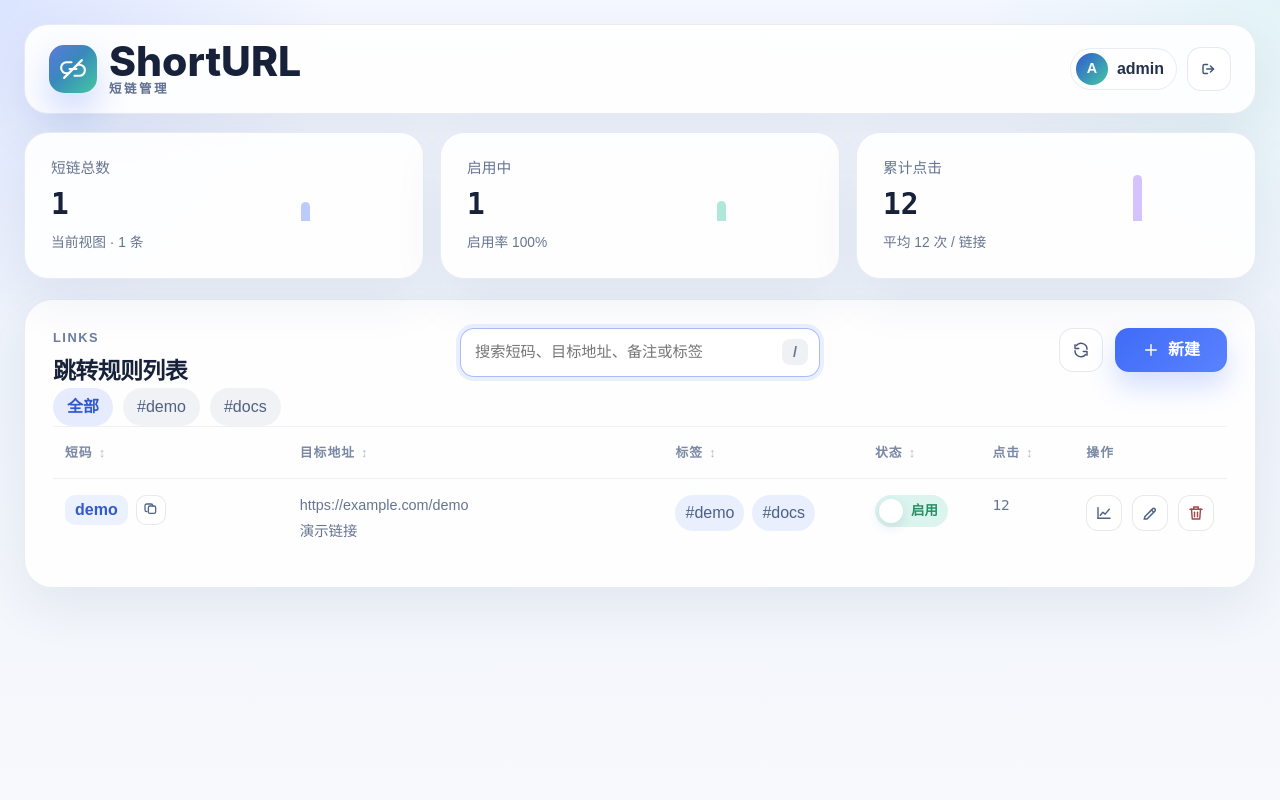
Test: LinksPage › loads analytics panel
Click the button named "分析" at (1104,513), box [1086,495,1122,531]
(page scrolled)
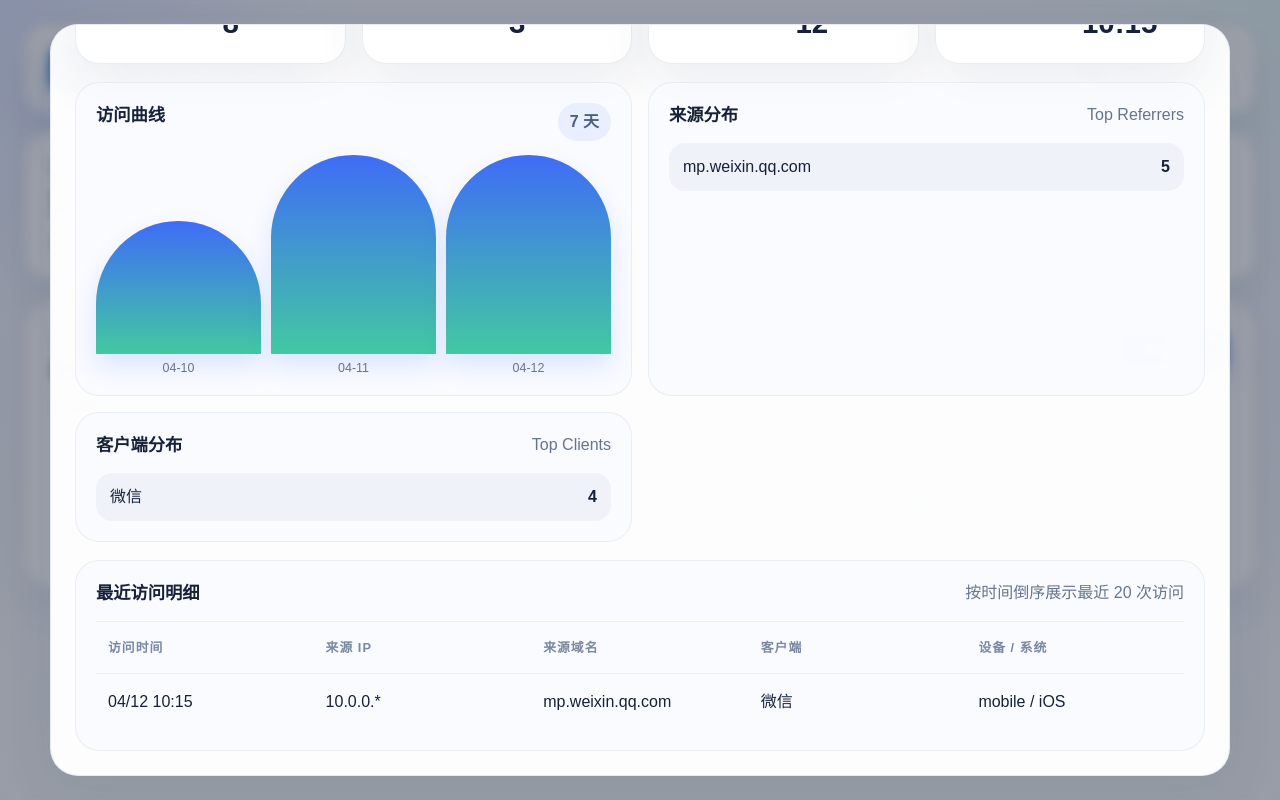
expect the text "mp.weixin.qq.com" is shown: met, box [683,155,811,179]
expect the text "10.0.0.*" is shown: met, box [314,674,531,730]
